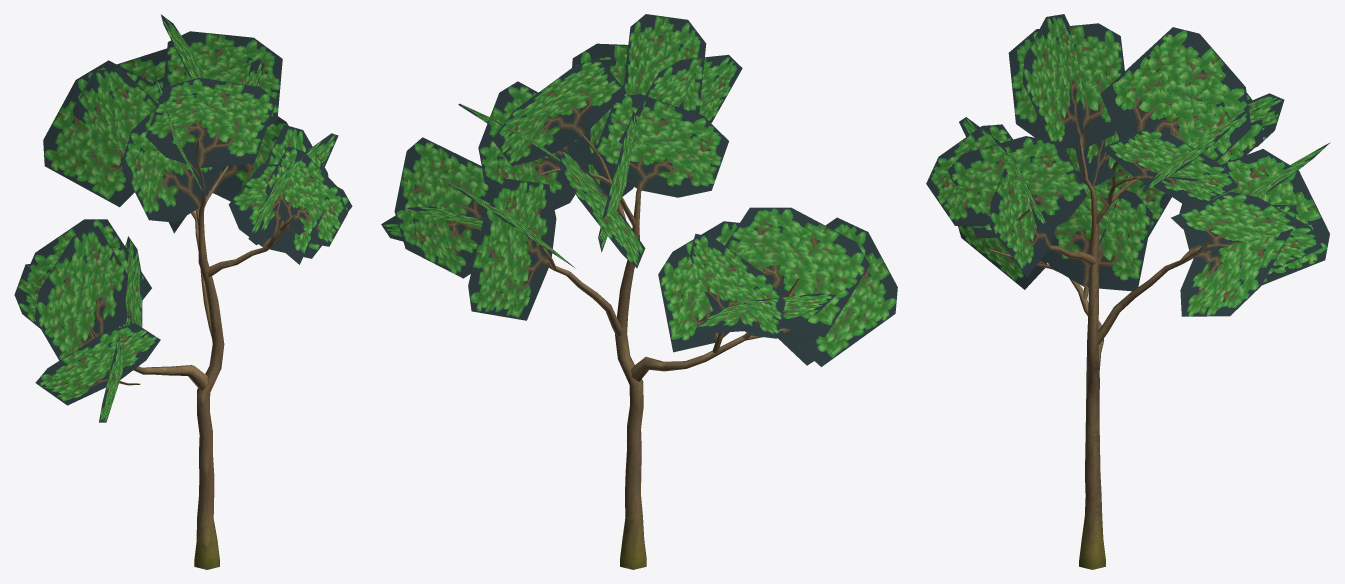
The model's file is tree_02.fbx.
3 renders of one model, left to right at view 1: azimuth 30°, elevation 25°; view 2: azimuth 150°, elevation 25°; view 3: azimuth 270°, elevation 25°, orthographic. The views are drawn at different scales.
Visible parts, largest first — view 1: tree_02_leaves, tree_02; view 2: tree_02_leaves, tree_02; view 3: tree_02_leaves, tree_02.
Boxes of the visible parts, box(x1,y1,x2,y2) form: tree_02_leaves: box(14, 14, 352, 422); tree_02: box(90, 141, 294, 569); tree_02_leaves: box(381, 14, 897, 366); tree_02: box(528, 135, 798, 569); tree_02_leaves: box(926, 14, 1330, 316); tree_02: box(990, 135, 1211, 569).
Bounding box in the file's own units: 524 × 681 × 468.
